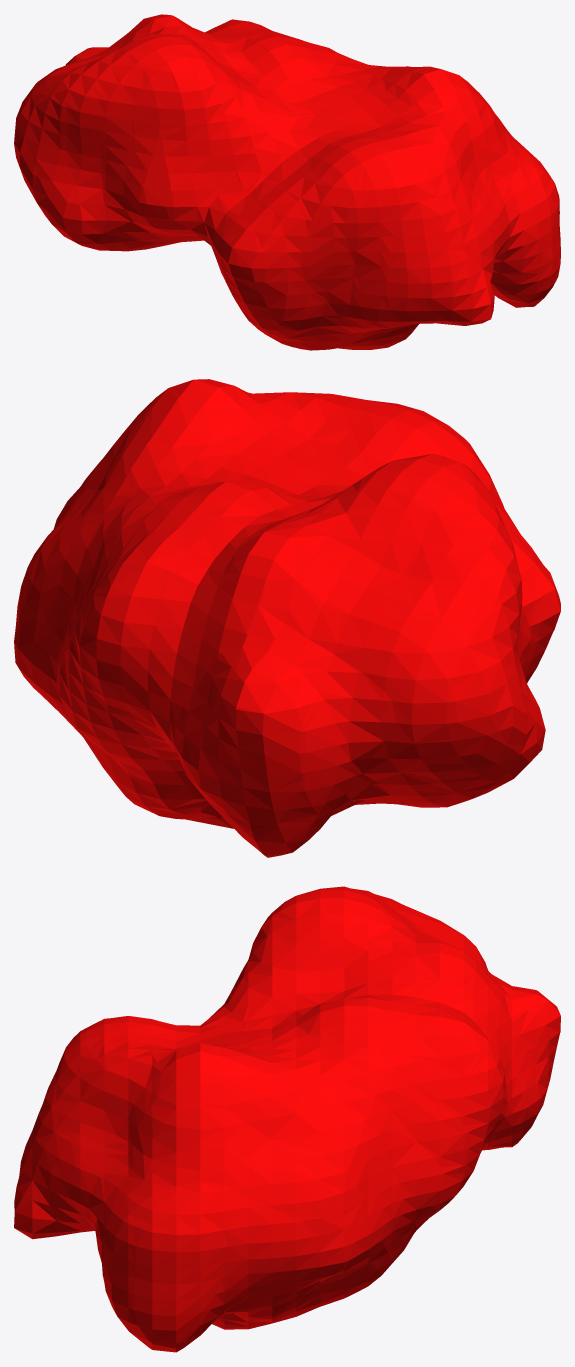
Rendered from rnhB_coarse.dae.
3 views of the same model, one above another, from view 1: azimuth 30°, elevation 25°; view 2: azimuth 150°, elevation 25°; view 3: azimuth 270°, elevation 25° (orthographic). The views are drawn at different scales.
Visible parts, largest first — view 1: rnhB; view 2: rnhB; view 3: rnhB.
Boxes of the visible parts, left/top/right/bottom form: rnhB: left=14, top=14, right=560, bottom=350; rnhB: left=14, top=379, right=560, bottom=857; rnhB: left=14, top=886, right=560, bottom=1352.
Size of the model in its own units: 53.84 by 37.87 by 55.18.
